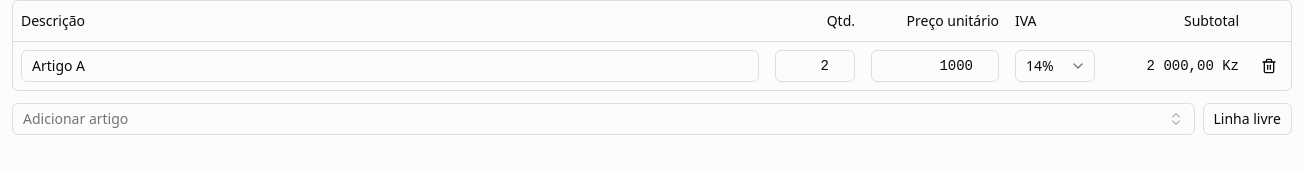
Test: LinhasEditor › remove uma linha ao clicar em remover
The width and height of the screenshot is (1304, 172).
Step 1. Click the button named "Remover linha" → (1269,66), box [1255,52,1283,80]
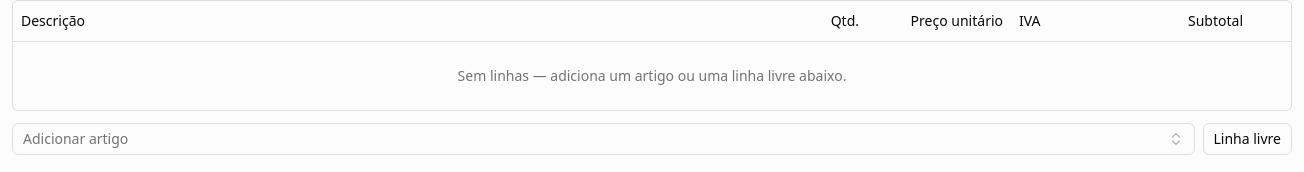
Expected: the text "Sem linhas — adiciona um artigo ou uma linha livre abaixo." is shown, [13,41,1291,110]
